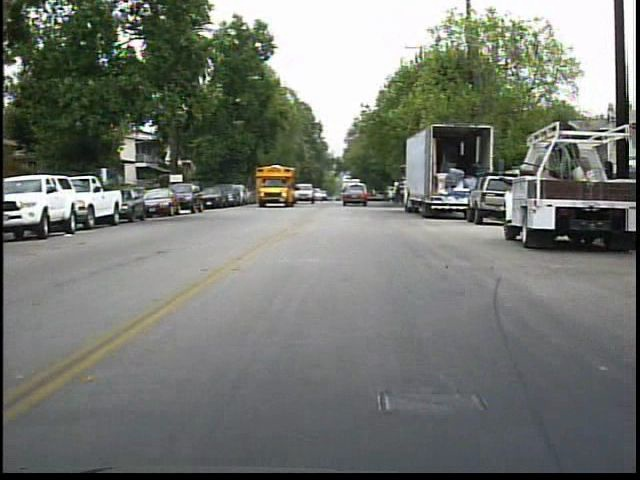person: (390, 177, 407, 210)
